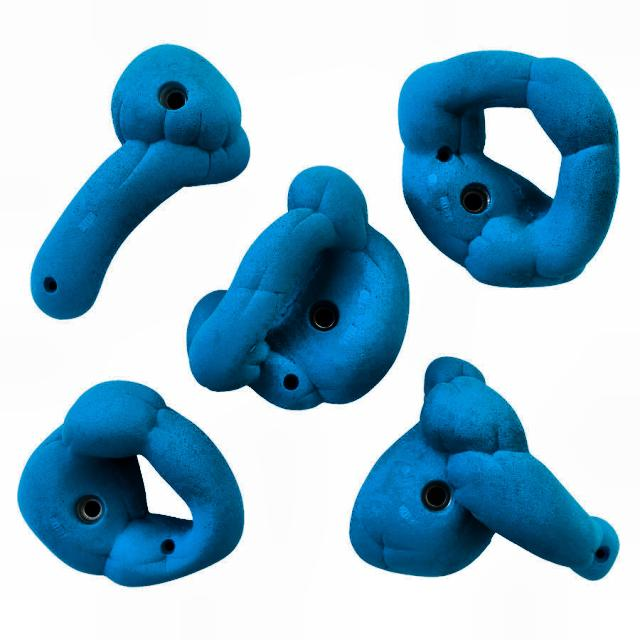Hold: (23, 41, 254, 322), (357, 358, 628, 570), (191, 165, 408, 408), (404, 46, 596, 288), (18, 382, 236, 588)
